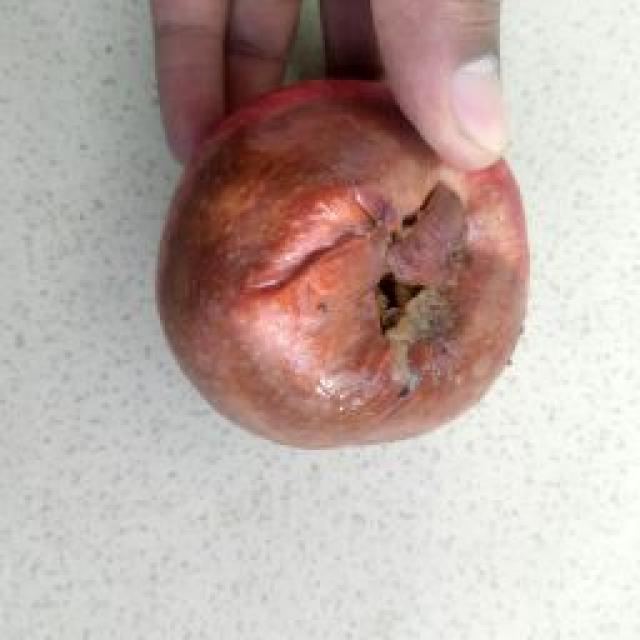Bad_Apple: (160, 81, 528, 447)
